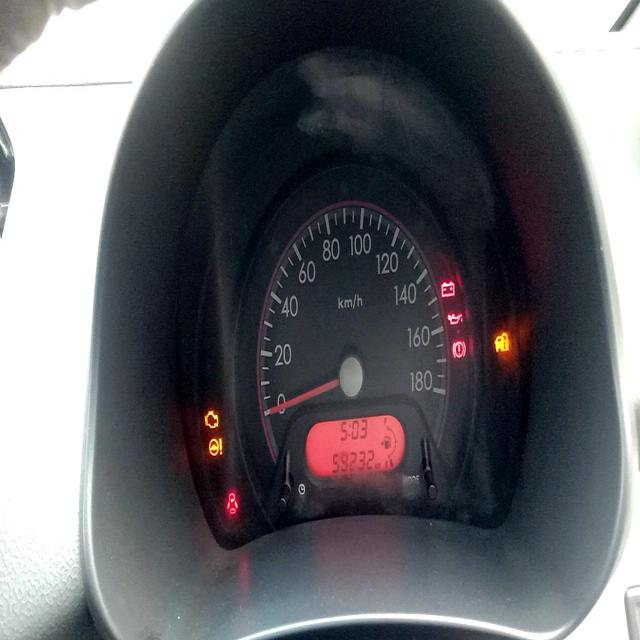odometer: (331, 447, 374, 476)
